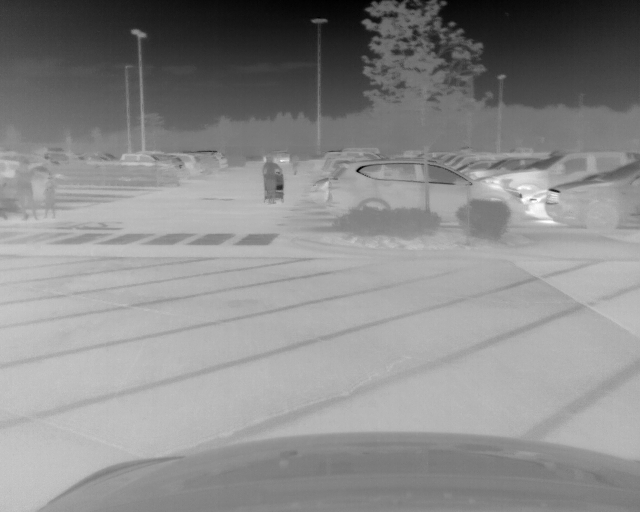car: (324, 159, 527, 230), (476, 151, 629, 219), (545, 158, 640, 233), (1, 160, 53, 207), (118, 152, 186, 183), (463, 154, 548, 178), (198, 151, 229, 174), (179, 153, 203, 180), (263, 149, 291, 164)
people: (13, 160, 38, 221), (260, 156, 282, 205), (42, 159, 56, 220)
